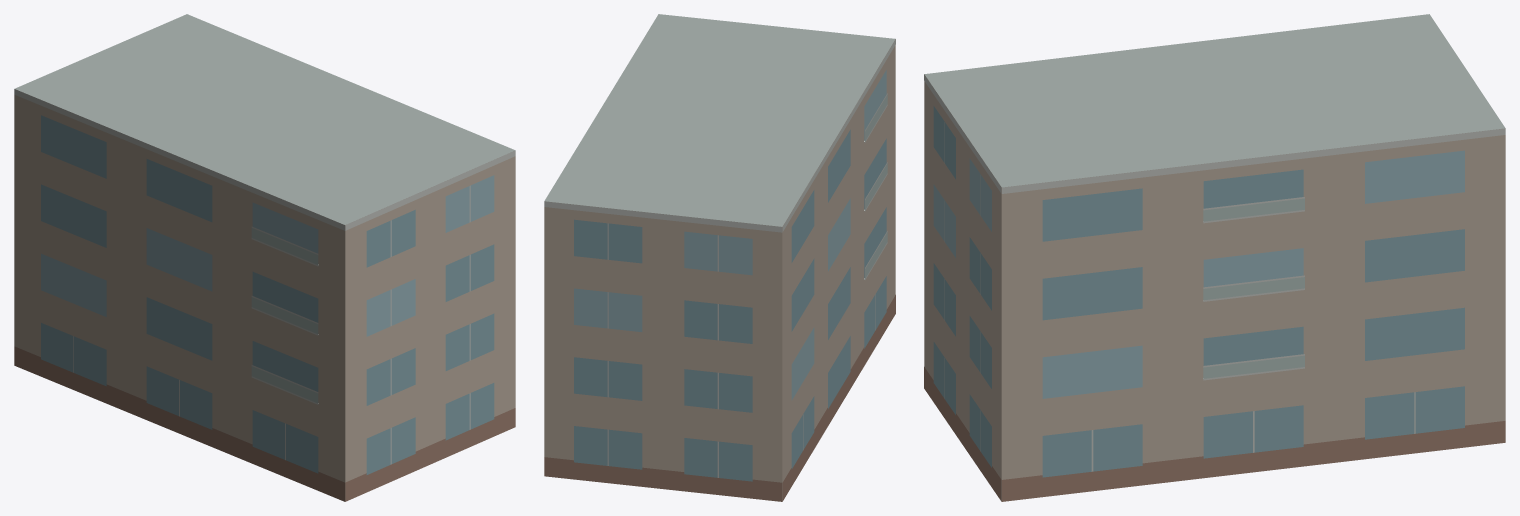
File: survey-upis-32982759.glb
The picture shows the model from 3 angles, left to right: view 1: azimuth 30°, elevation 25°; view 2: azimuth 150°, elevation 25°; view 3: azimuth 270°, elevation 25°; orthographic projection. The views are drawn at different scales.
Parts seen in each view (by area): view 1: survey-upis-32982759.tmp; view 2: survey-upis-32982759.tmp; view 3: survey-upis-32982759.tmp.
Part boxes in pixels (left/top/right/bottom): survey-upis-32982759.tmp: left=14, top=14, right=515, bottom=501; survey-upis-32982759.tmp: left=544, top=14, right=895, bottom=501; survey-upis-32982759.tmp: left=924, top=14, right=1505, bottom=501.
Bounding box in the file's own units: 13.86 × 11.7 × 19.62.
